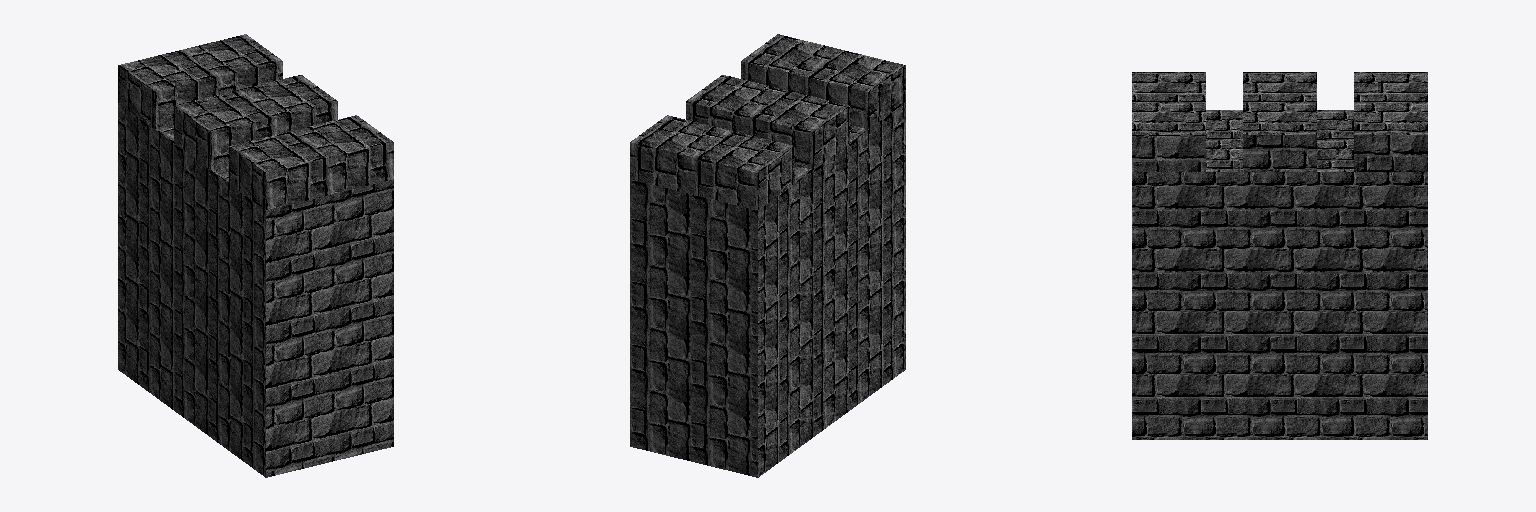
The picture shows the model from 3 angles: view 1: azimuth 30°, elevation 25°; view 2: azimuth 150°, elevation 25°; view 3: azimuth 270°, elevation 25°; orthographic projection.
Parts seen in each view (by area): view 1: Cube; view 2: Cube; view 3: Cube.
Boxes of the visible parts, box(x1,y1,x2,y2) form: Cube: box(118, 34, 393, 477); Cube: box(630, 34, 905, 477); Cube: box(1132, 72, 1427, 439).
Bounding box in the file's own units: 1 × 2.28 × 2.
Materials: 1 (1 with a texture image).